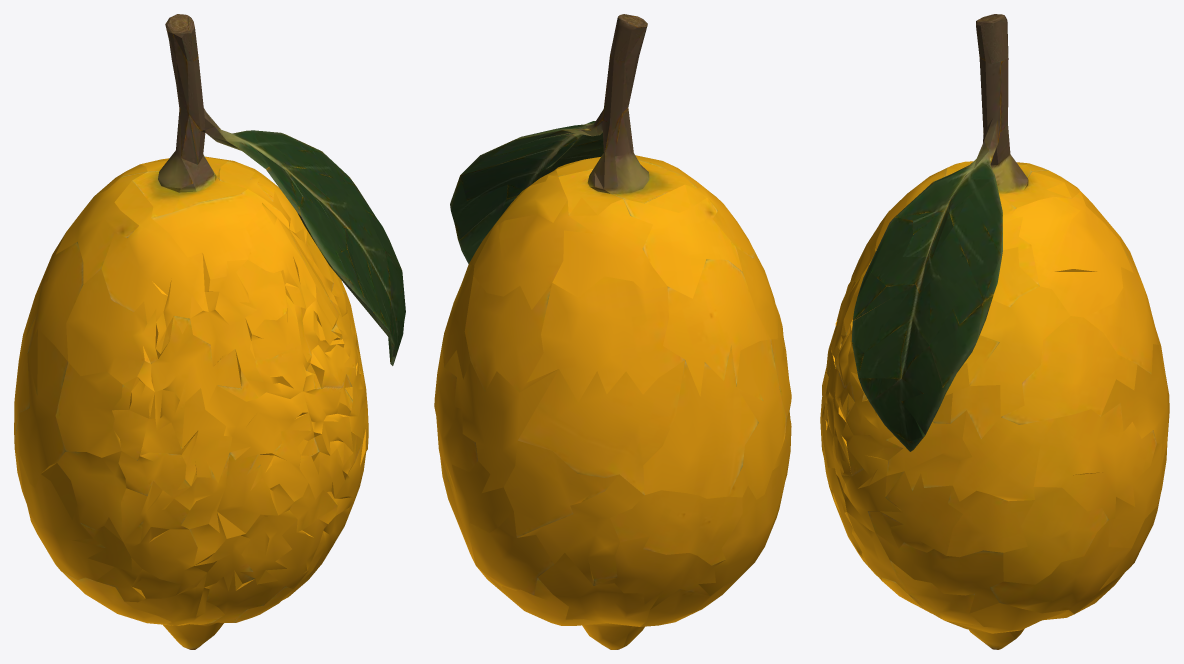
The model's file is citron-fruit.glb.
3 views of the same model, side by side, from view 1: azimuth 30°, elevation 25°; view 2: azimuth 150°, elevation 25°; view 3: azimuth 270°, elevation 25° (orthographic).
Visible parts, largest first — view 1: citron-fruit; view 2: citron-fruit; view 3: citron-fruit.
Part boxes in pixels (<box>): citron-fruit: <box>14,14,405,649</box>; citron-fruit: <box>434,14,791,649</box>; citron-fruit: <box>820,14,1169,649</box>.
Size of the model in its own units: 0.0903 by 0.1619 by 0.0818.
Materials: 1 (1 with a texture image).
